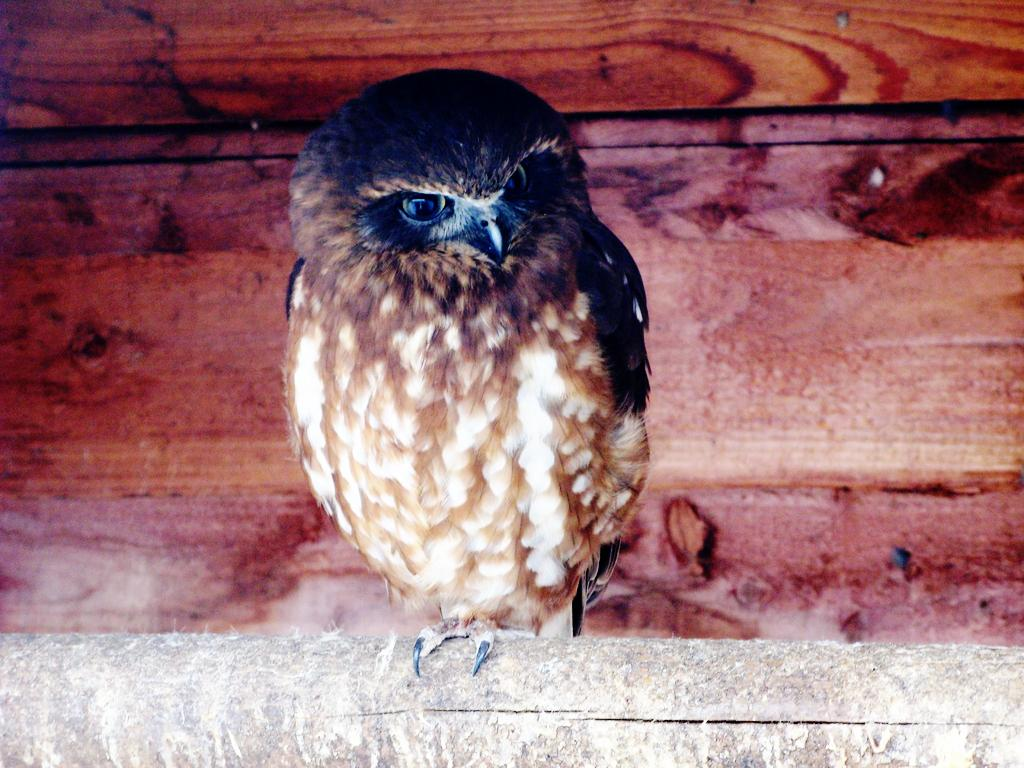Owl: (291, 70, 657, 676)
